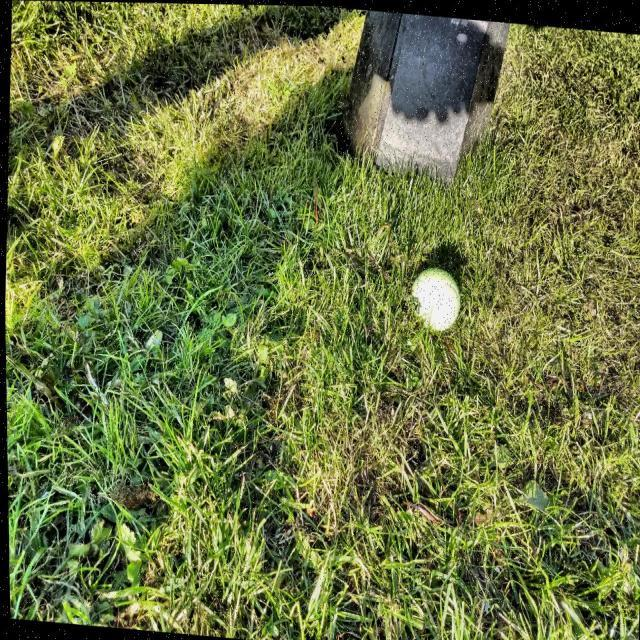tennis-ball: (406, 258, 470, 348)
